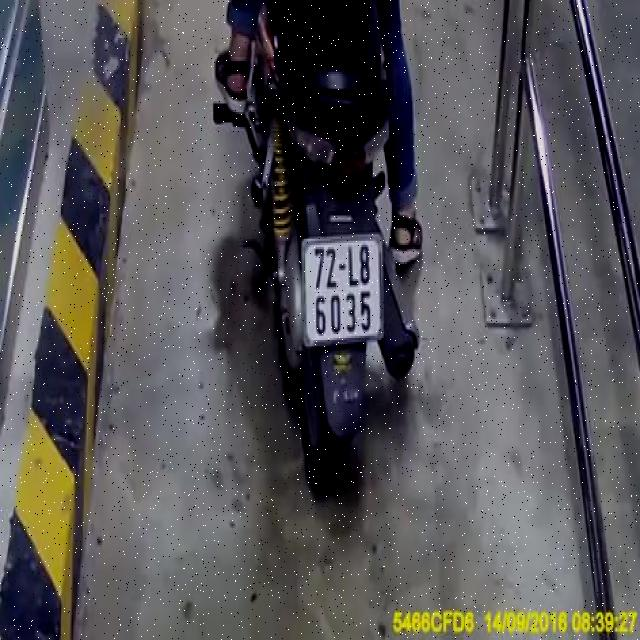0: (329, 295, 344, 336)
2: (325, 247, 338, 290)
3: (346, 292, 356, 333)
5: (361, 290, 372, 331)
6: (316, 293, 328, 338)
7: (313, 244, 325, 286)
8: (358, 242, 371, 285)
L: (345, 240, 359, 286)
